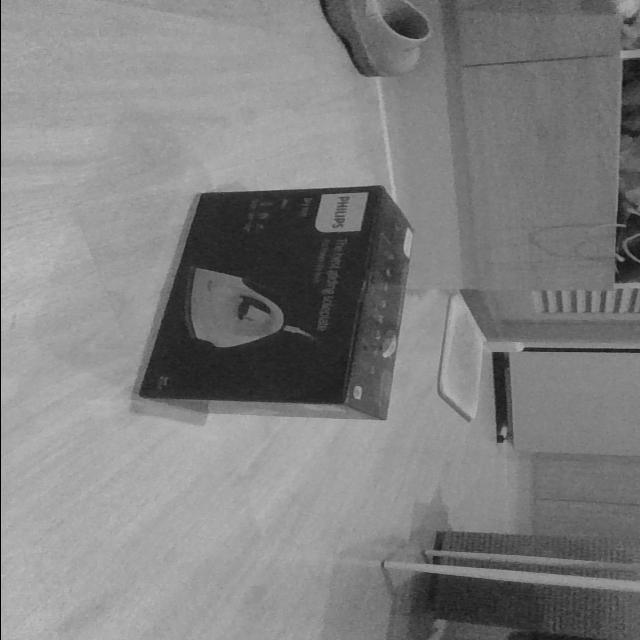IRON: (131, 182, 417, 422)
